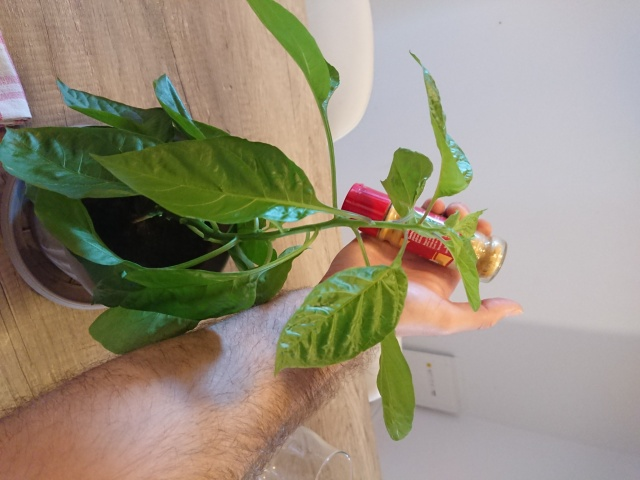Kotanyi Curry Spices Mix 70g: (339, 181, 510, 287)
